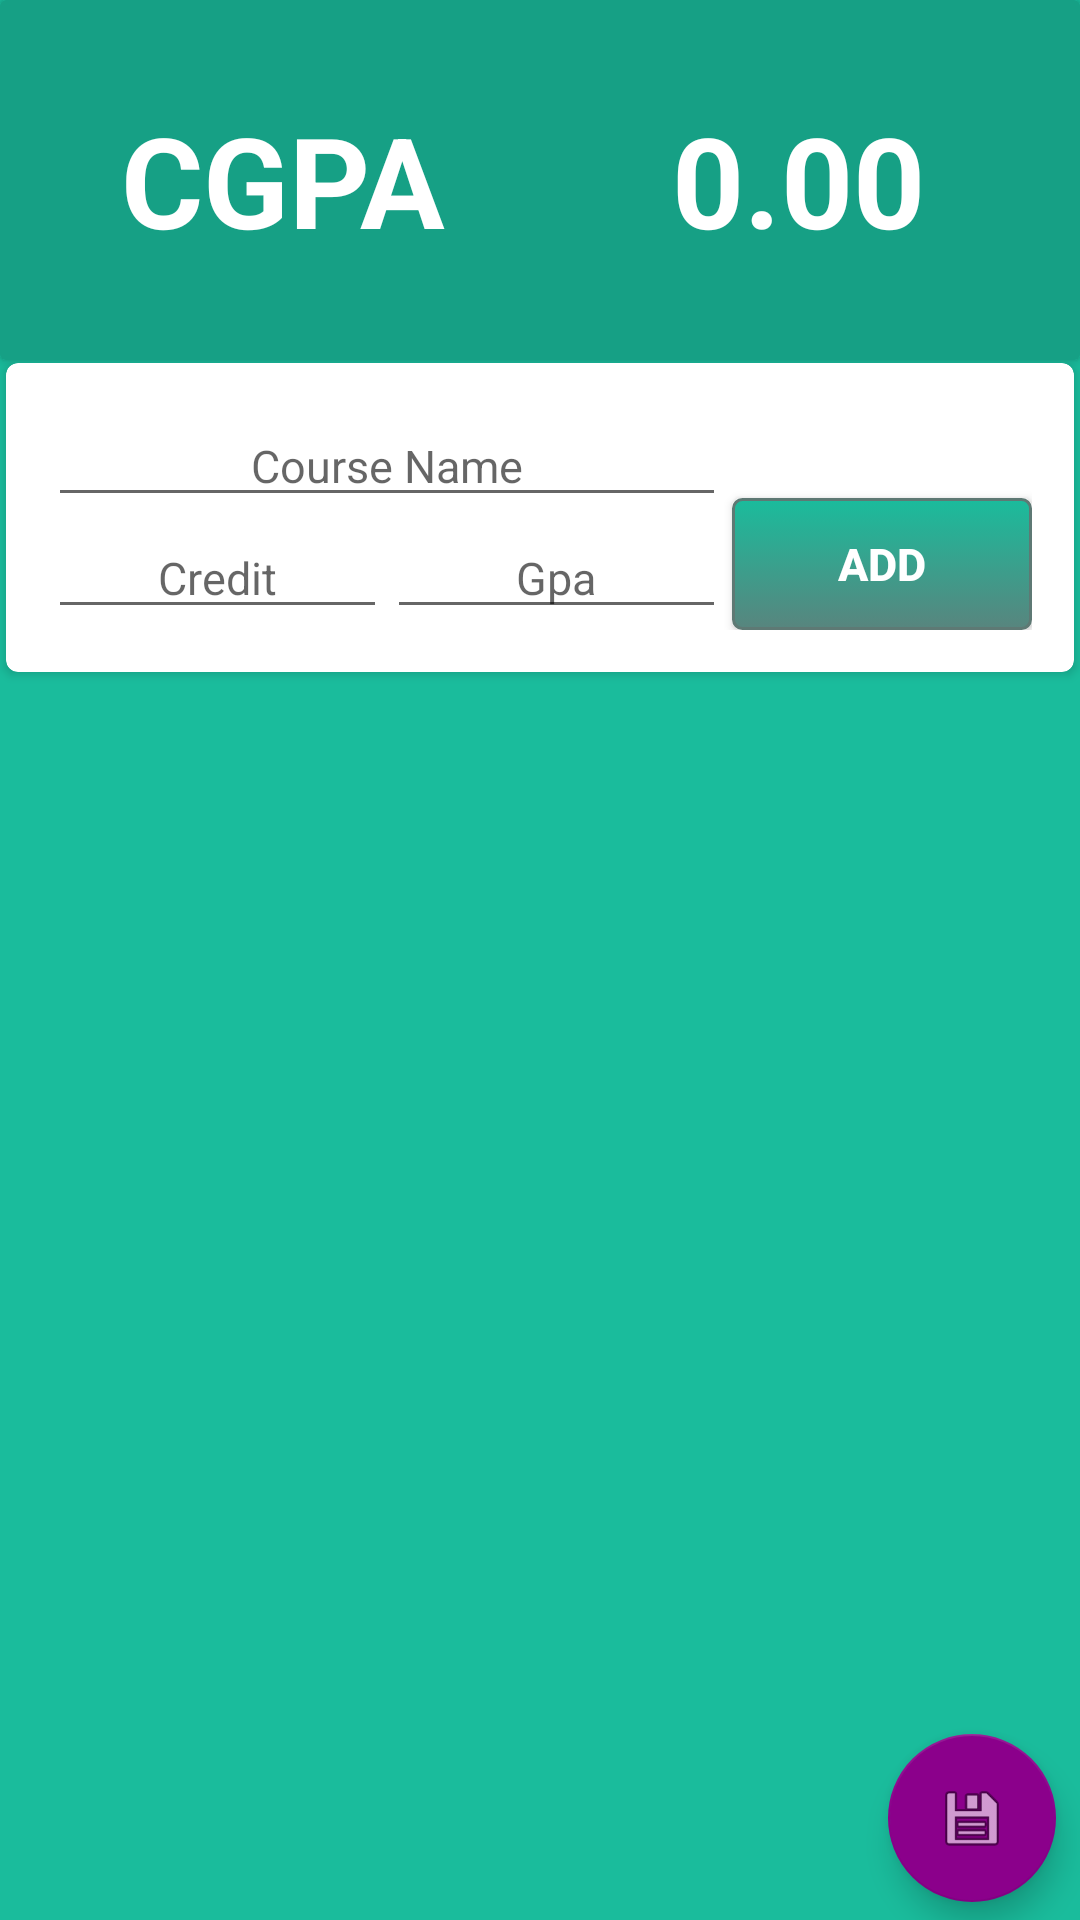

Icon click points for this 1080px x 1920px phone screenshot, format point (x, y):
save: point (972, 1818)
